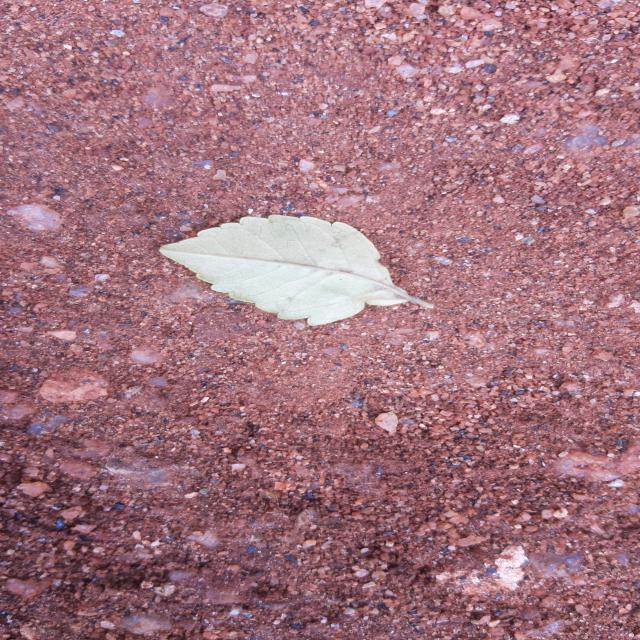disease in leaf: (160, 215, 433, 325)
tecoma: (160, 215, 433, 326)
